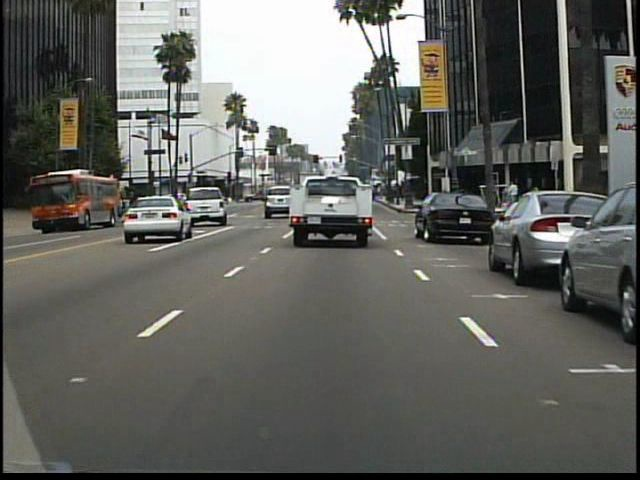person: (504, 178, 522, 219)
